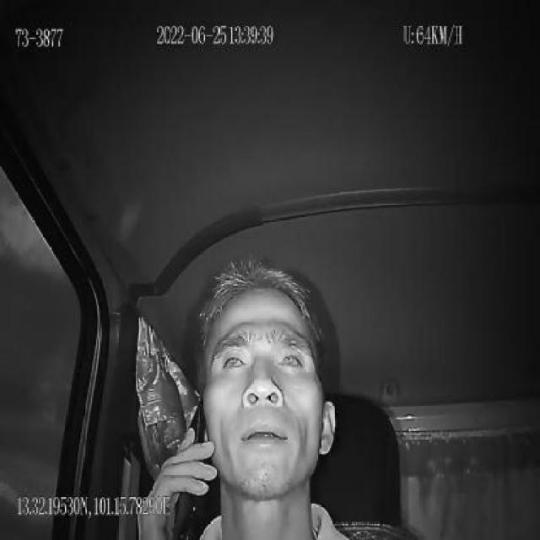phone: (171, 398, 207, 540)
